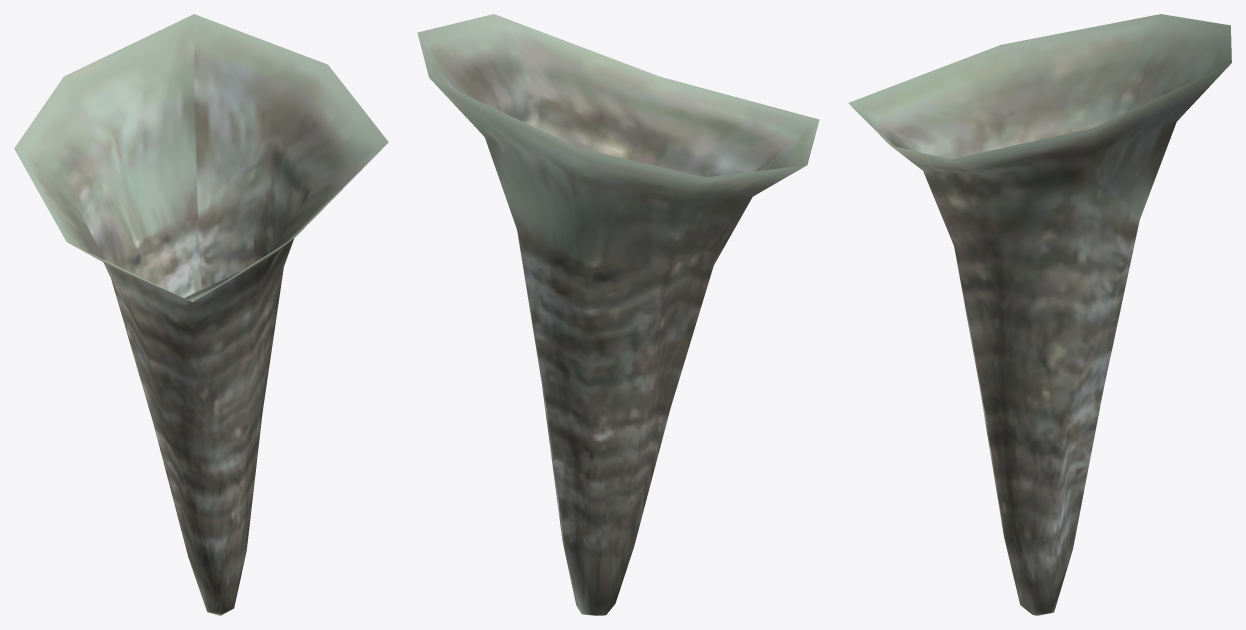
File: TROLLHOLE02_PS-UPPERSTALAG30.fbx
The picture shows the model from 3 angles, left to right: view 1: azimuth 30°, elevation 25°; view 2: azimuth 150°, elevation 25°; view 3: azimuth 270°, elevation 25°; orthographic projection. The views are drawn at different scales.
Visible parts, largest first — view 1: TROLLHOLE02_PS-UPPERSTALAG30; view 2: TROLLHOLE02_PS-UPPERSTALAG30; view 3: TROLLHOLE02_PS-UPPERSTALAG30.
Boxes of the visible parts, box(x1,y1,x2,y2) form: TROLLHOLE02_PS-UPPERSTALAG30: box(14, 14, 388, 615); TROLLHOLE02_PS-UPPERSTALAG30: box(417, 14, 819, 615); TROLLHOLE02_PS-UPPERSTALAG30: box(848, 14, 1231, 615).
Size of the model in its own units: 10400 by 17189 by 10202.
Materials: 1 (1 with a texture image).
